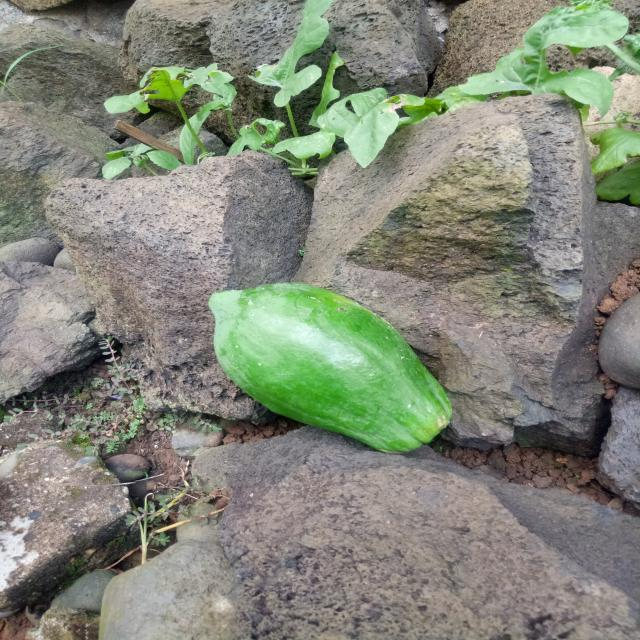Pepaya unrippen: (203, 274, 463, 454)
